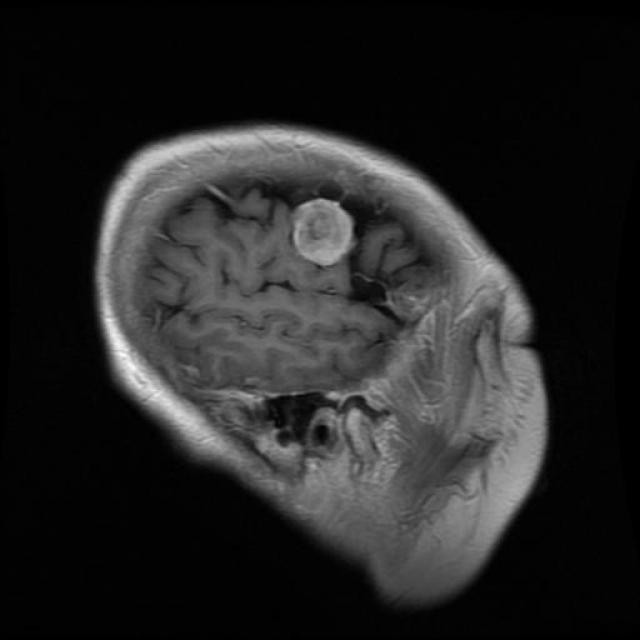Brain-Tumor: (286, 182, 369, 278)
